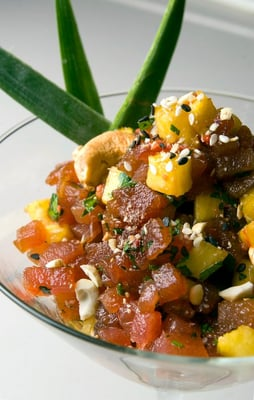sushi: (2, 56, 254, 384)
